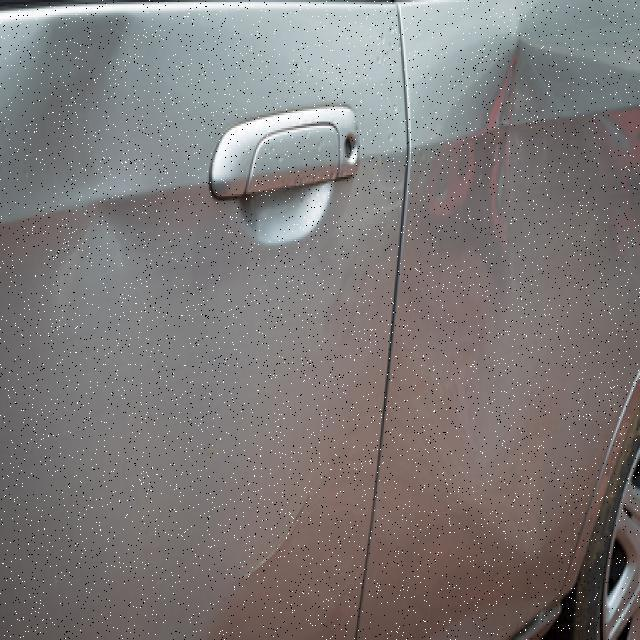doorouter-dent: (0, 6, 400, 638), (400, 6, 638, 638)
